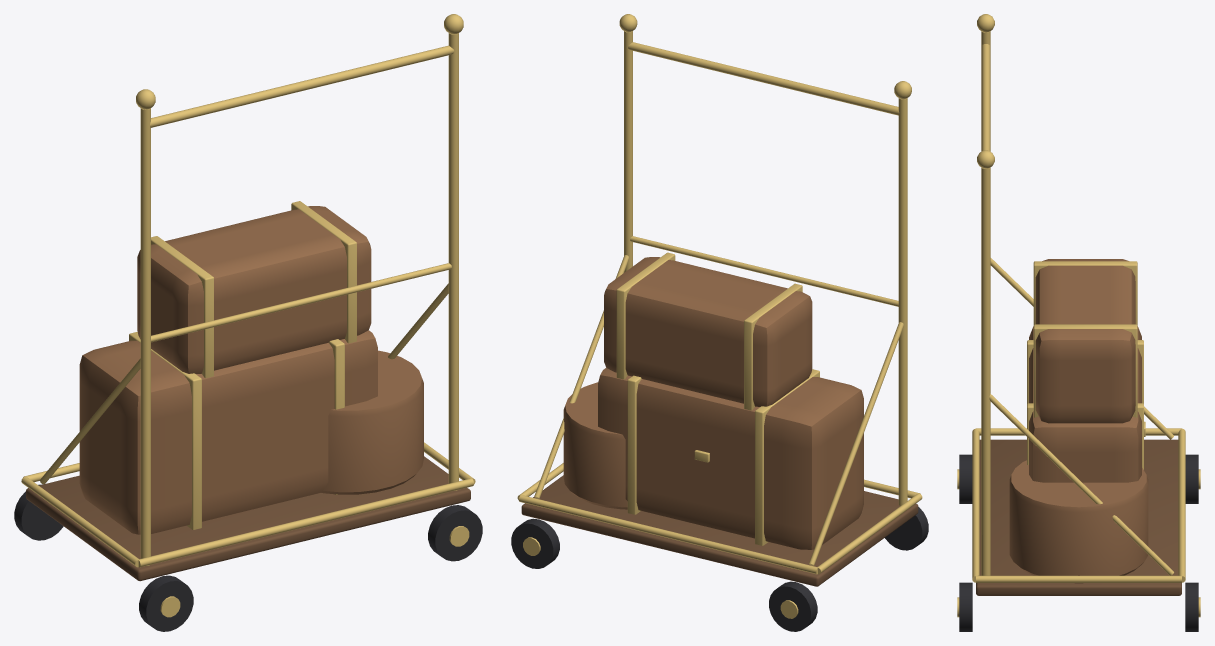
Rendered from arr_carrello.fbx.
3 renders of one model, left to right at view 1: azimuth 30°, elevation 25°; view 2: azimuth 150°, elevation 25°; view 3: azimuth 270°, elevation 25°, orthographic. The views are drawn at different scales.
Parts seen in each view (by area): view 1: arr_carrello_cuoio, arr_carrello_ottone, arr_carrello_noce, arr_carrello_scuro; view 2: arr_carrello_cuoio, arr_carrello_ottone, arr_carrello_noce, arr_carrello_scuro; view 3: arr_carrello_cuoio, arr_carrello_ottone, arr_carrello_noce, arr_carrello_scuro.
Part boxes in pixels (<box>): arr_carrello_cuoio: <box>79,206,423,534</box>; arr_carrello_ottone: <box>21,14,475,617</box>; arr_carrello_noce: <box>26,456,470,581</box>; arr_carrello_scuro: <box>14,484,482,631</box>; arr_carrello_cuoio: <box>563,257,863,549</box>; arr_carrello_ottone: <box>517,14,922,618</box>; arr_carrello_noce: <box>521,475,918,586</box>; arr_carrello_scuro: <box>511,507,928,631</box>; arr_carrello_cuoio: <box>1009,259,1148,583</box>; arr_carrello_ottone: <box>957,14,1200,617</box>; arr_carrello_noce: <box>976,439,1181,595</box>; arr_carrello_scuro: <box>959,454,1198,631</box>.
Size of the model in its own units: 1.07 by 1.6 by 0.732.
